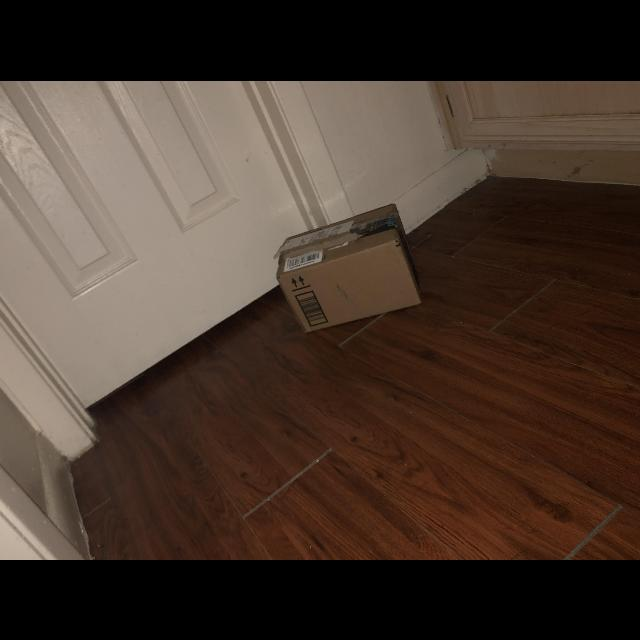box: (274, 200, 424, 334)
